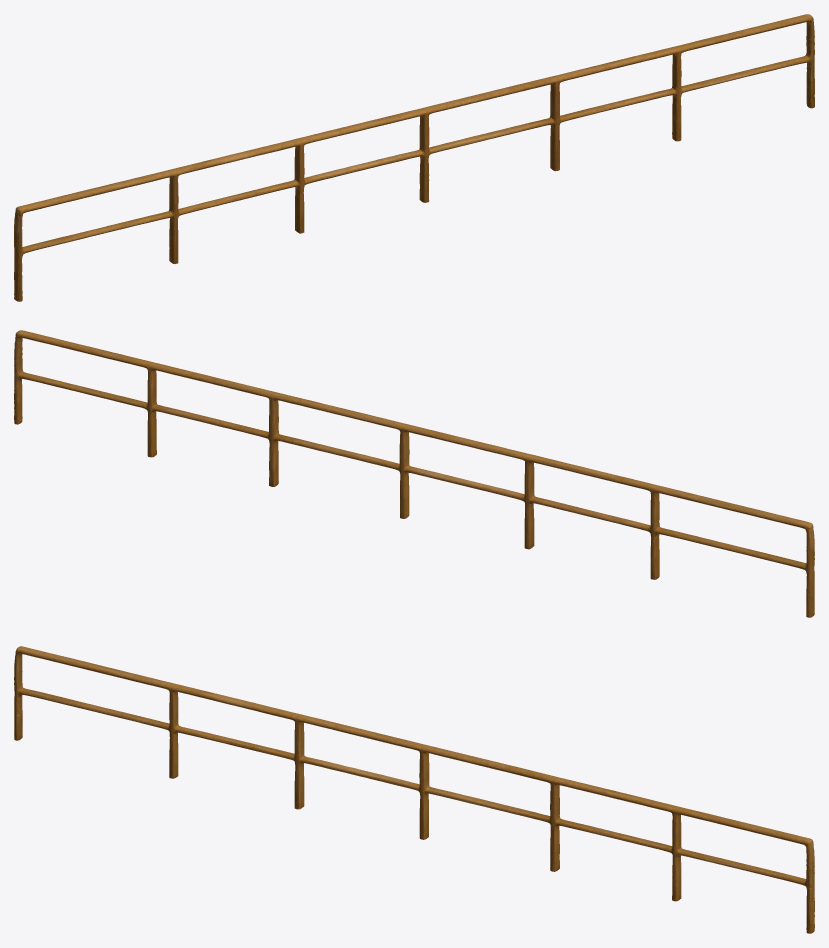
3 views of the same model, one above another, from view 1: azimuth 30°, elevation 25°; view 2: azimuth 150°, elevation 25°; view 3: azimuth 330°, elevation 25° (orthographic).
Parts seen in each view (by area): view 1: Mesh; view 2: Mesh; view 3: Mesh.
Part boxes in pixels (x1=…): Mesh: x1=14, y1=14, x2=814, y2=301; Mesh: x1=14, y1=330, x2=814, y2=617; Mesh: x1=14, y1=646, x2=814, y2=933.
Bounding box in the file's own units: 1.83 × 0.2025 × 0.0238.
Materials: 1 (1 with a texture image).
